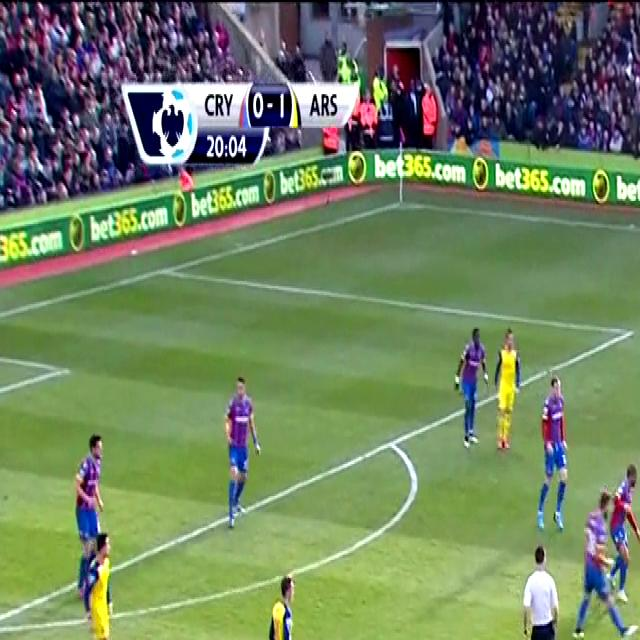referee: (514, 562, 574, 640)
soccer-player: (210, 365, 278, 538), (526, 370, 581, 531), (60, 427, 120, 570), (567, 492, 620, 640), (447, 316, 500, 456), (57, 528, 120, 640), (487, 319, 527, 454), (250, 567, 319, 640)
